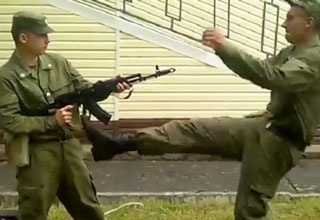ak47: (43, 65, 176, 125)
